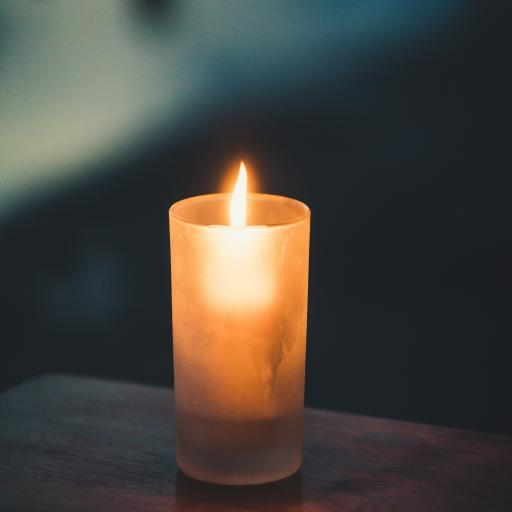candlelight: (154, 100, 327, 478)
